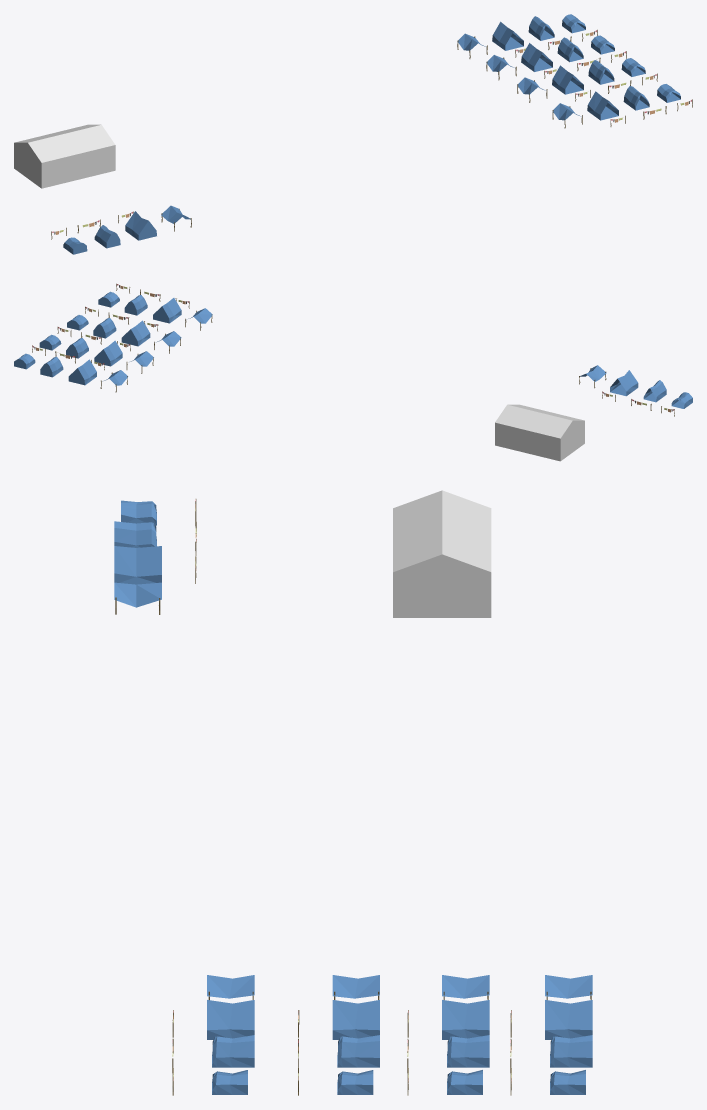
File: Zelte_Anordnung_und_skalierung.fbx
3 renders of one model, top to bottom at view 1: azimuth 30°, elevation 25°; view 2: azimuth 150°, elevation 25°; view 3: azimuth 270°, elevation 25°, orthographic. The views are drawn at different scales.
Visible parts, largest first — view 1: medizinzelt_plazierung, Zelt, Zelt_4, Zelt_2_2, Zelt_3_4, Zelt_5, Zelt_1_2_6, Zelt_1_2_2, Zelt_1_2_4, Zelt_1_2_5, Zelt_1_2; view 2: medizinzelt_plazierung, Zelt, Zelt_4, Zelt_5, Zelt_2_2, Zelt_3_4, Zelt_1_2, Zelt_1_2_2, Zelt_1_2_5, Zelt_1_2_6, Zelt_1_2_4; view 3: medizinzelt_plazierung, Zelt, Zelt_4, Zelt_2_2, Zelt_3_4, Zelt_5, Zelt_1_2_2, Zelt_1_2_4, Zelt_1_2_6, Zelt_1_2_5, Zelt_1_2, Zelt_2_1 (+4 smaller).
Part boxes in pixels (box(x1,y1,x2,y2)): medizinzelt_plazierung: box(14, 124, 115, 188); Zelt: box(125, 211, 156, 240); Zelt_4: box(552, 65, 583, 94); Zelt_2_2: box(492, 21, 523, 50); Zelt_3_4: box(521, 43, 552, 71); Zelt_5: box(587, 91, 618, 120); Zelt_1_2_6: box(623, 86, 649, 110); Zelt_1_2_2: box(528, 16, 554, 40); Zelt_1_2_4: box(557, 37, 583, 62); Zelt_1_2_5: box(588, 60, 614, 84); Zelt_1_2: box(94, 225, 120, 248); medizinzelt_plazierung: box(495, 404, 584, 461); Zelt: box(610, 370, 638, 396); Zelt_4: box(121, 320, 150, 346); Zelt_5: box(153, 298, 181, 323); Zelt_2_2: box(68, 359, 96, 385); Zelt_3_4: box(94, 340, 122, 366); Zelt_1_2: box(643, 380, 666, 402); Zelt_1_2_2: box(40, 356, 63, 377); Zelt_1_2_5: box(93, 318, 116, 338); Zelt_1_2_6: box(124, 295, 147, 315); Zelt_1_2_4: box(66, 338, 88, 358); medizinzelt_plazierung: box(393, 490, 491, 617); Zelt: box(114, 546, 161, 584); Zelt_4: box(332, 1000, 379, 1039); Zelt_2_2: box(545, 1000, 592, 1039); Zelt_3_4: box(442, 1000, 489, 1039); Zelt_5: box(207, 1000, 254, 1039); Zelt_1_2_2: box(550, 1035, 592, 1067); Zelt_1_2_4: box(447, 1035, 489, 1067); Zelt_1_2_6: box(212, 1035, 254, 1067); Zelt_1_2_5: box(337, 1035, 379, 1067); Zelt_1_2: box(114, 521, 156, 547); Zelt_2_1: box(114, 582, 161, 614).
Size of the model in its own units: 12899 by 1034 by 4734.
